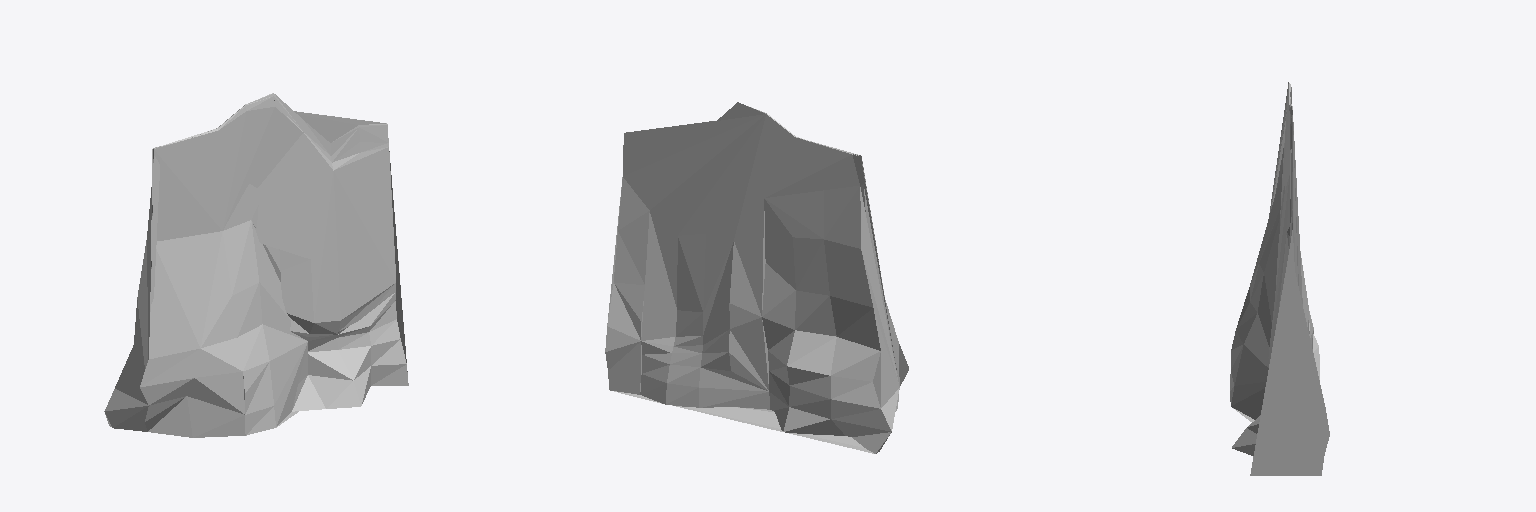
The model's file is ice_wall.obj.
3 renders of one model, left to right at view 1: azimuth 30°, elevation 25°; view 2: azimuth 150°, elevation 25°; view 3: azimuth 270°, elevation 25°, orthographic.
Parts seen in each view (by area): view 1: Cube; view 2: Cube; view 3: Cube.
Part boxes in pixels (bbox=[...]): Cube: bbox=[104, 93, 408, 437]; Cube: bbox=[605, 102, 908, 453]; Cube: bbox=[1230, 82, 1329, 475].
Bounding box in the file's own units: 17.07 × 18.09 × 5.37.